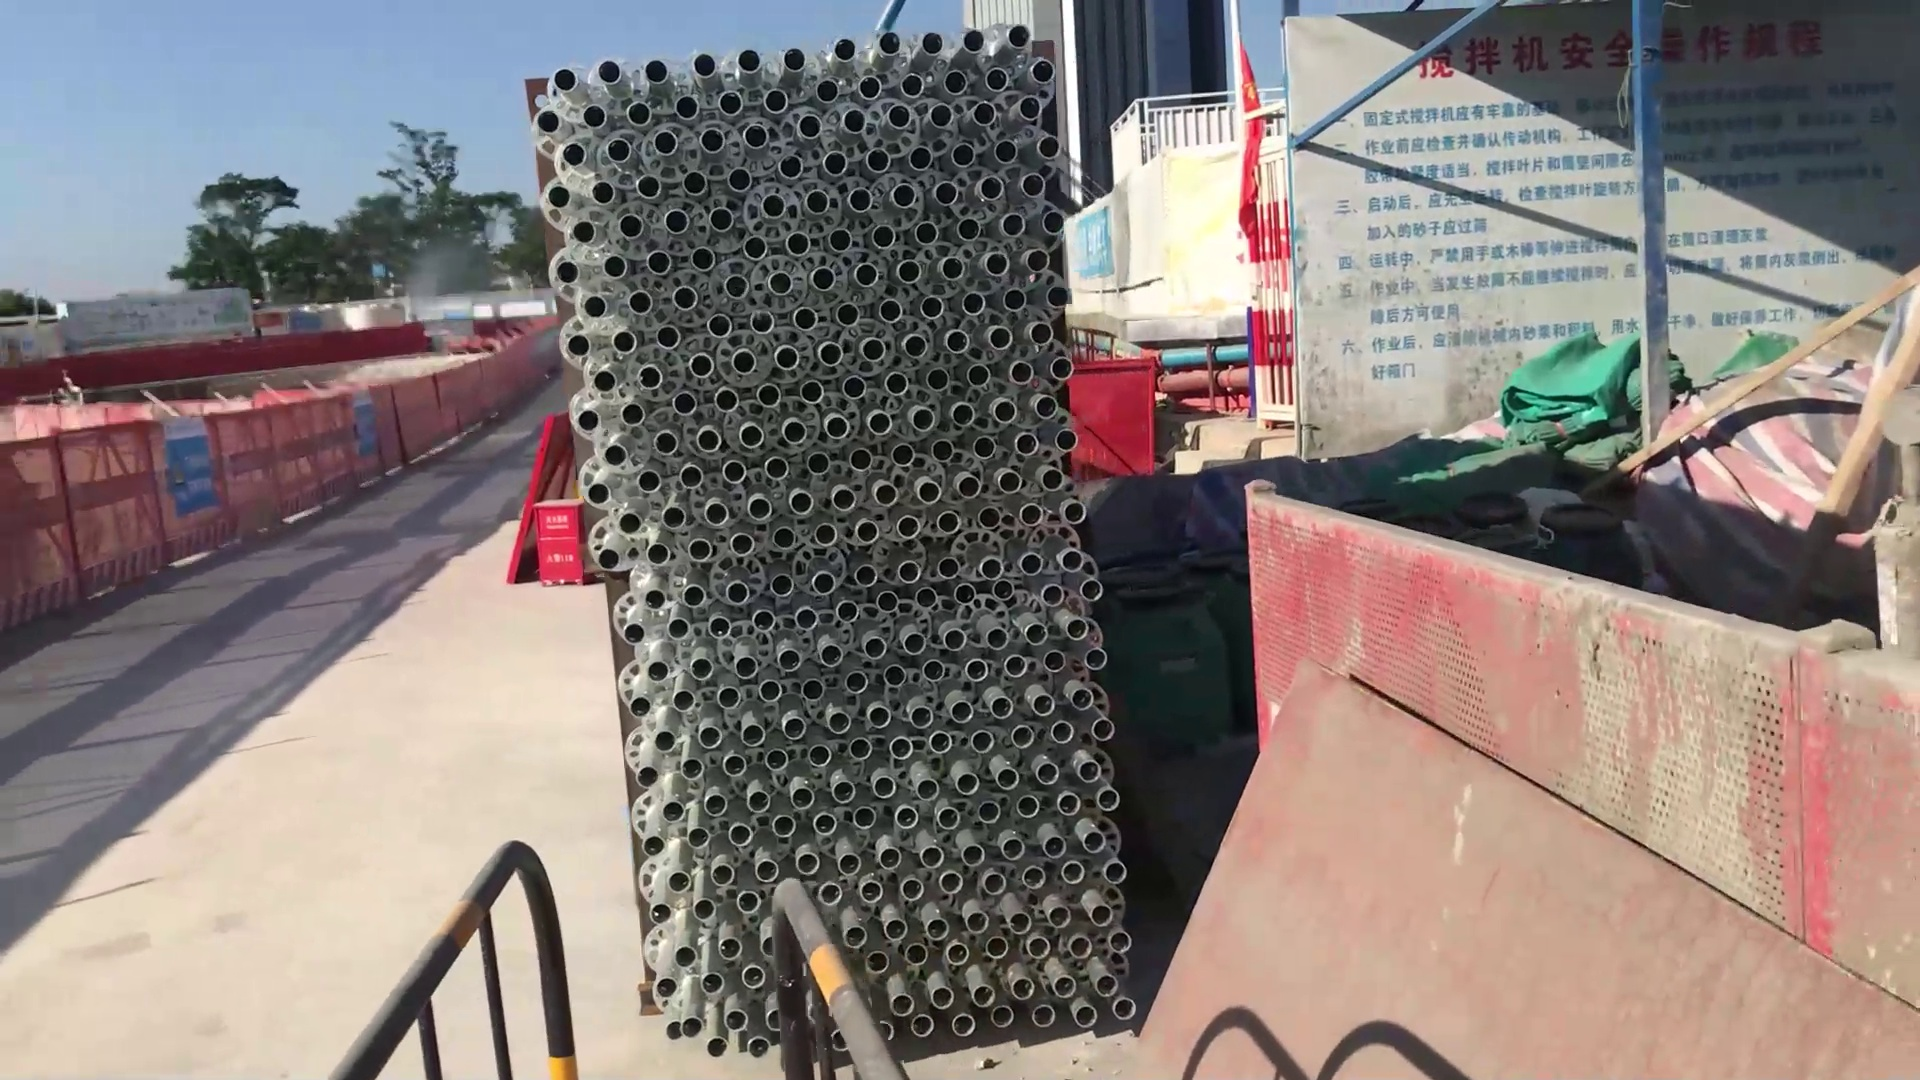fence: (1246, 480, 1920, 1080), (1, 320, 533, 604)
scaffold: (538, 22, 1138, 1043)
slogan: (165, 440, 219, 517)
